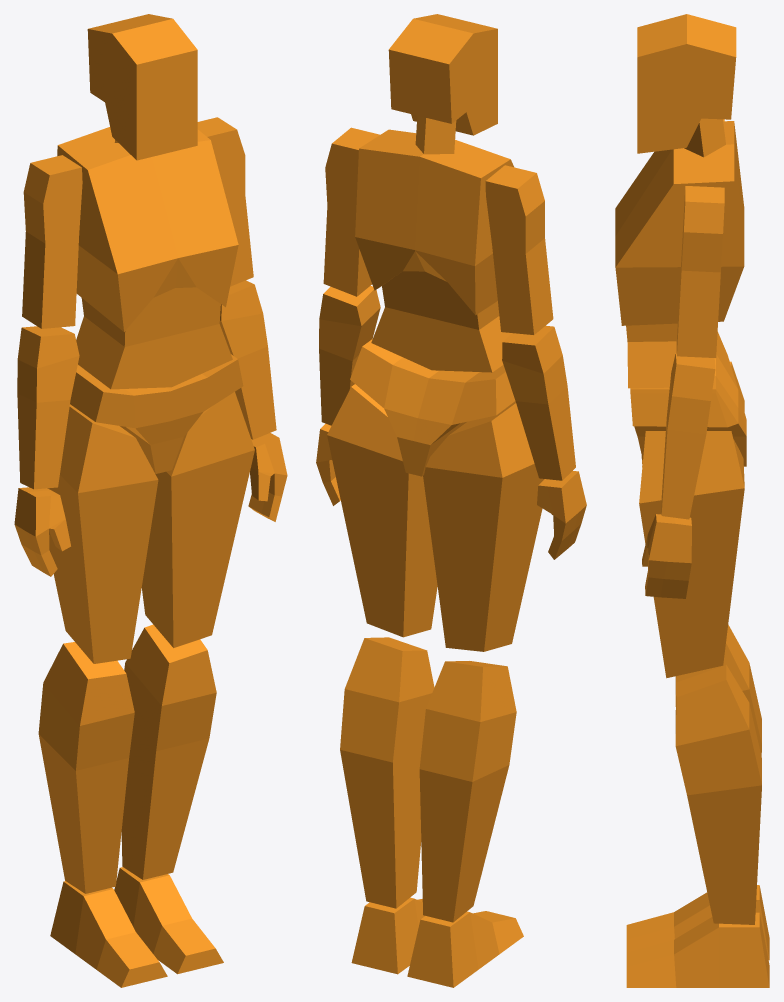
The model's file is human.fbx.
3 views of the same model, side by side, from view 1: azimuth 30°, elevation 25°; view 2: azimuth 150°, elevation 25°; view 3: azimuth 270°, elevation 25° (orthographic).
Visible parts, largest first — view 1: upperTorso, upperLeg.R, upperLeg.L, lowerLeg.R, lowerLeg.L, head, lowerTorso, upperArm.R, pelvis, lowerArm.R, foot.R, foot.L (+4 smaller); view 2: upperLeg.R, upperTorso, lowerLeg.R, lowerLeg.L, upperLeg.L, head, pelvis, lowerTorso, upperArm.R, lowerArm.R, foot.R, upperArm.L (+5 smaller); view 3: lowerLeg.L, upperTorso, upperLeg.L, head, foot.L, upperArm.L, lowerArm.L, pelvis, hand.L, lowerTorso, foot.R, lowerLeg.R (+1 smaller).
Boxes of the visible parts, left/top/right/bottom form: upperTorso: left=57, top=127, right=238, bottom=331; upperLeg.R: left=47, top=404, right=158, bottom=663; upperLeg.L: left=141, top=392, right=254, bottom=647; lowerLeg.R: left=38, top=642, right=134, bottom=893; lowerLeg.L: left=121, top=624, right=216, bottom=879; head: left=87, top=14, right=197, bottom=160; lowerTorso: left=76, top=287, right=232, bottom=389; upperArm.R: left=22, top=155, right=82, bottom=328; pelvis: left=70, top=354, right=243, bottom=473; lowerArm.R: left=17, top=326, right=79, bottom=489; foot.R: left=50, top=881, right=167, bottom=987; foot.L: left=114, top=867, right=223, bottom=974; upperLeg.R: left=423, top=401, right=544, bottom=651; upperTorso: left=355, top=129, right=513, bottom=315; lowerLeg.R: left=419, top=661, right=516, bottom=922; lowerLeg.L: left=340, top=637, right=434, bottom=908; upperLeg.L: left=327, top=384, right=437, bottom=637; head: left=388, top=14, right=497, bottom=135; pelvis: left=350, top=339, right=515, bottom=476; lowerTorso: left=371, top=271, right=511, bottom=372; upperArm.R: left=485, top=165, right=553, bottom=334; lowerArm.R: left=502, top=325, right=575, bottom=480; foot.R: left=407, top=911, right=523, bottom=987; upperArm.L: left=323, top=127, right=379, bottom=296; lowerLeg.L: left=675, top=665, right=761, bottom=924; upperTorso: left=615, top=121, right=744, bottom=325; upperLeg.L: left=639, top=431, right=744, bottom=678; head: left=637, top=14, right=736, bottom=153; foot.L: left=626, top=912, right=769, bottom=987; upperArm.L: left=676, top=186, right=724, bottom=357; lowerArm.L: left=661, top=353, right=715, bottom=519; pelvis: left=630, top=332, right=746, bottom=466; hand.L: left=642, top=514, right=691, bottom=598; lowerTorso: left=626, top=323, right=677, bottom=388; foot.R: left=626, top=885, right=769, bottom=960; lowerLeg.R: left=675, top=625, right=761, bottom=755.
Size of the model in its own units: 50.79 by 179 by 26.73.
